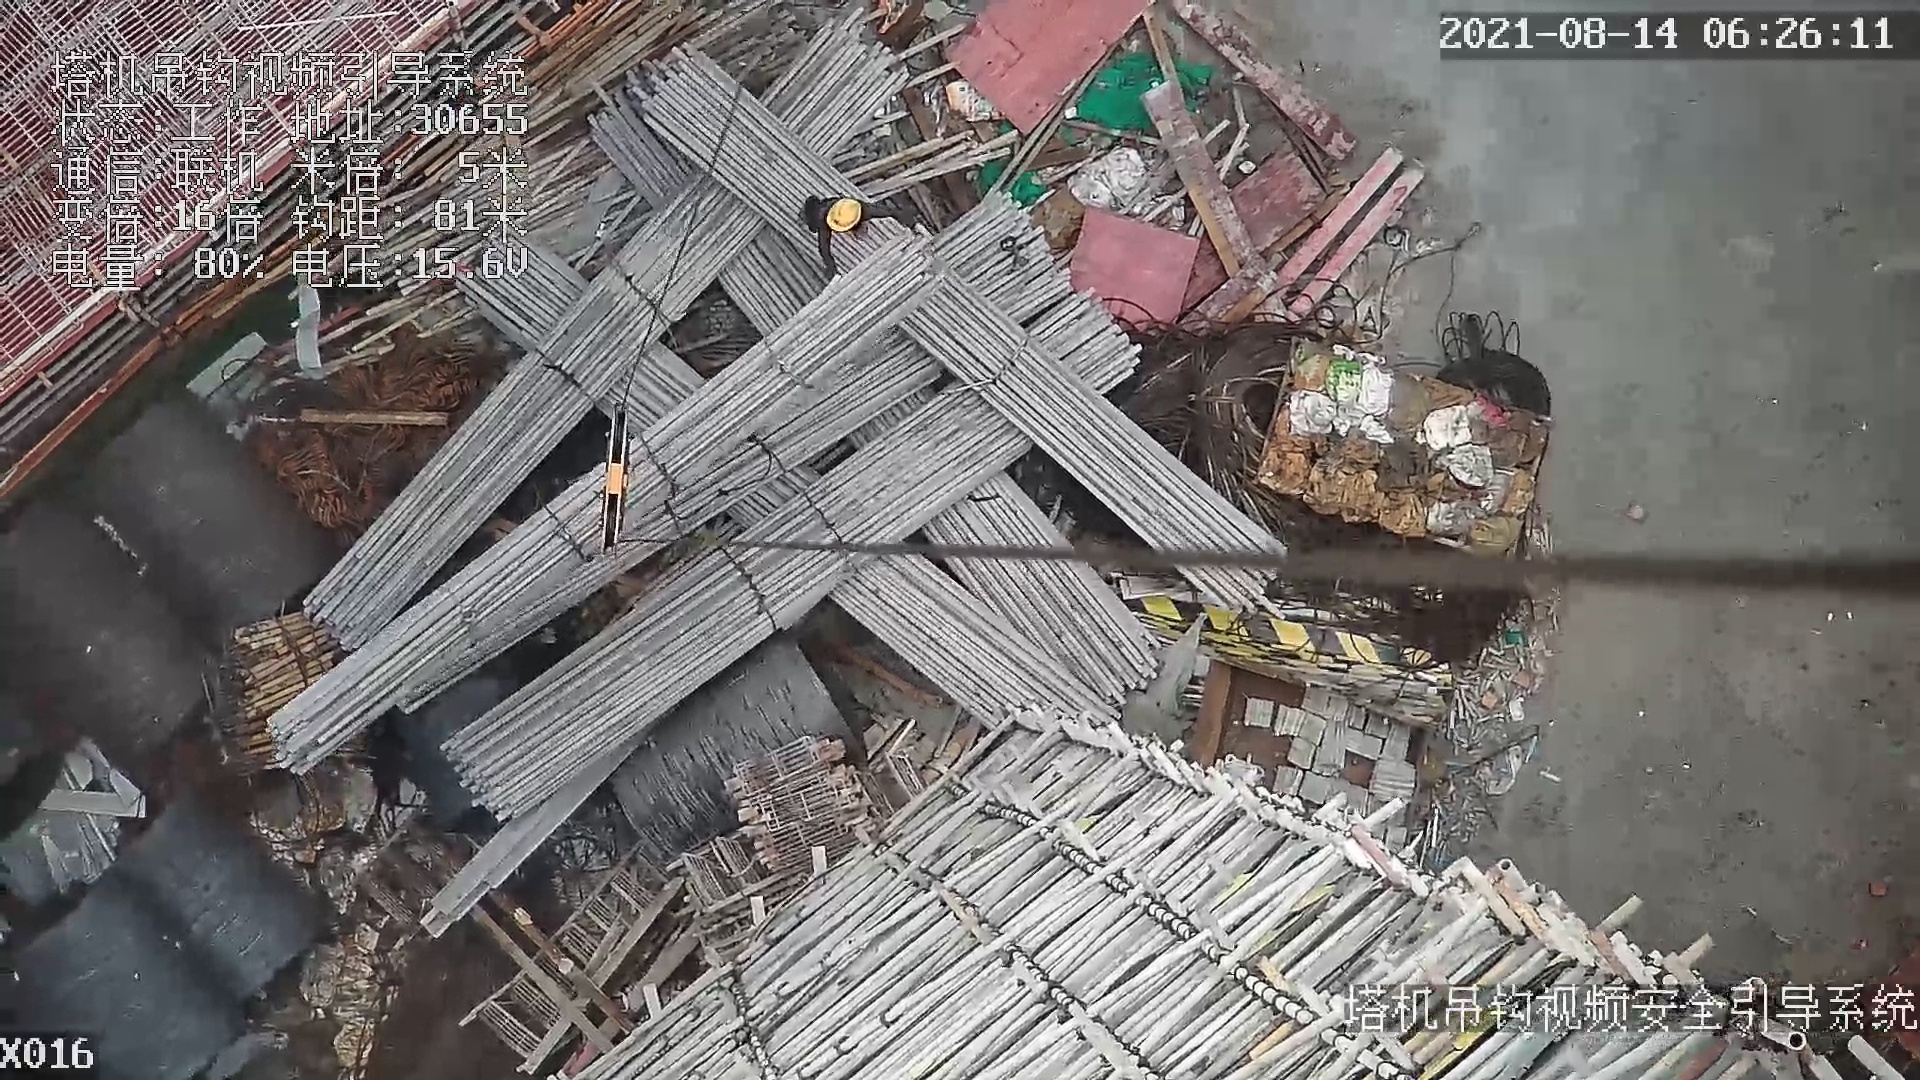helmet: (823, 198, 864, 228)
hook: (591, 401, 633, 559)
person: (804, 194, 918, 276)
